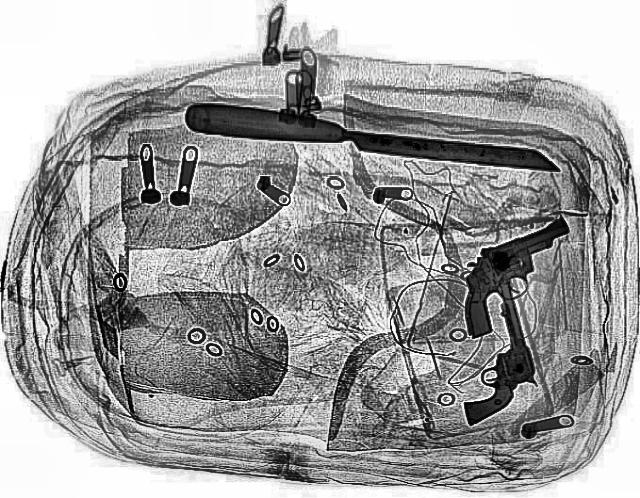Gun: (416, 198, 598, 346), (426, 243, 546, 425)
Knife: (178, 96, 564, 178)
